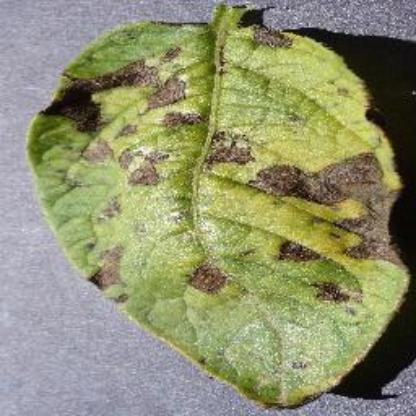Early-Blight: (24, 4, 406, 410)
